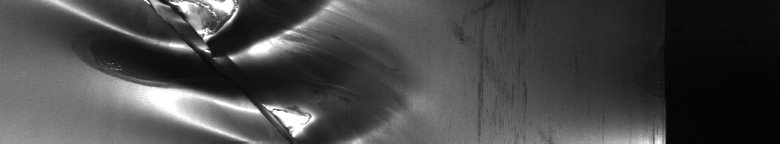ke: (53, 4, 368, 136)
